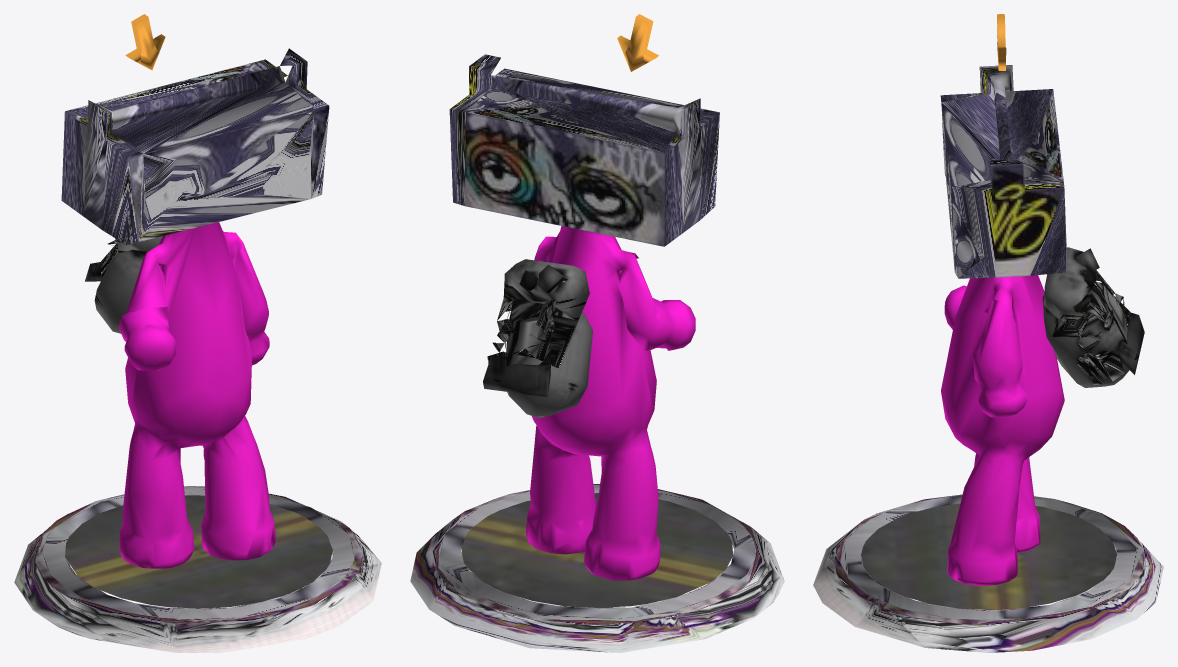
3 views of the same model, side by side, from view 1: azimuth 30°, elevation 25°; view 2: azimuth 150°, elevation 25°; view 3: azimuth 270°, elevation 25° (orthographic). The views are drawn at different scales.
Bounding box in the file's own units: 1.45 × 2.45 × 1.44.
6 materials, 5 textured.
